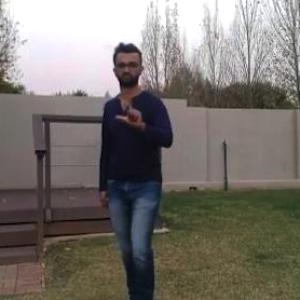land_hand: (115, 92, 148, 130)
